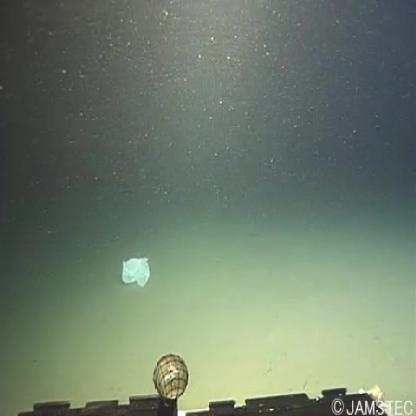Rác: (118, 250, 154, 298)
